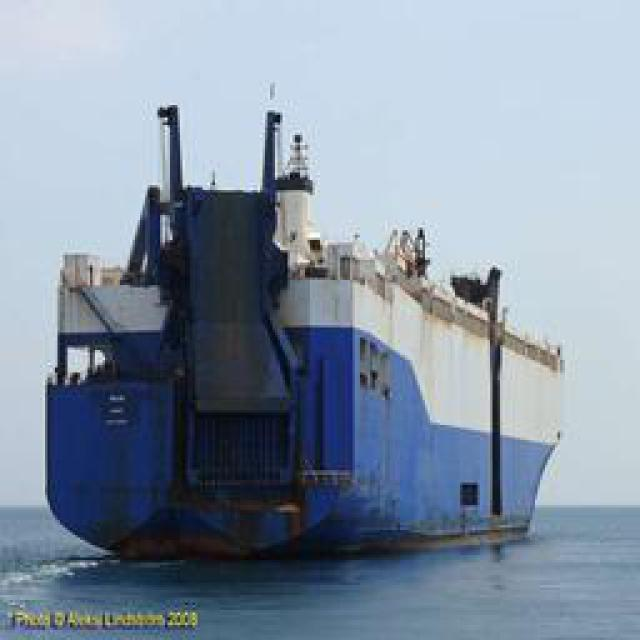Ship: (28, 65, 563, 560)
